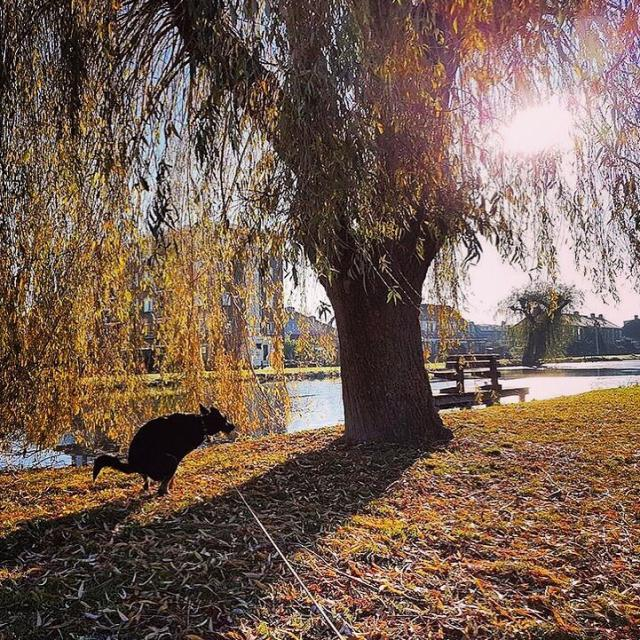squatting: (88, 399, 242, 500)
